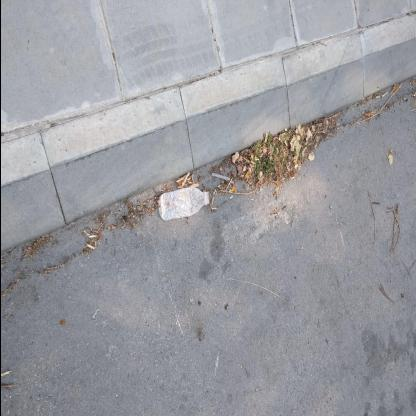plastik: (158, 188, 210, 222)
